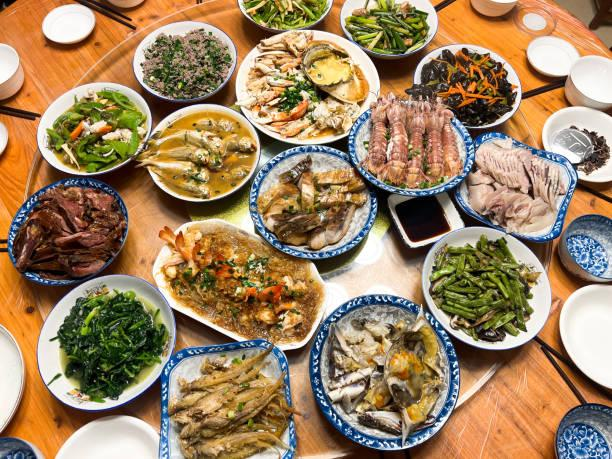Braised Crucian Carp: (308, 294, 458, 449), (154, 218, 329, 344), (35, 275, 172, 411), (159, 339, 297, 457), (421, 227, 551, 349), (234, 30, 371, 144), (249, 143, 374, 258), (453, 131, 576, 240), (7, 177, 129, 285), (348, 100, 472, 195), (142, 103, 258, 201), (35, 83, 151, 177), (412, 43, 523, 132), (132, 20, 236, 104), (340, 0, 439, 59)
